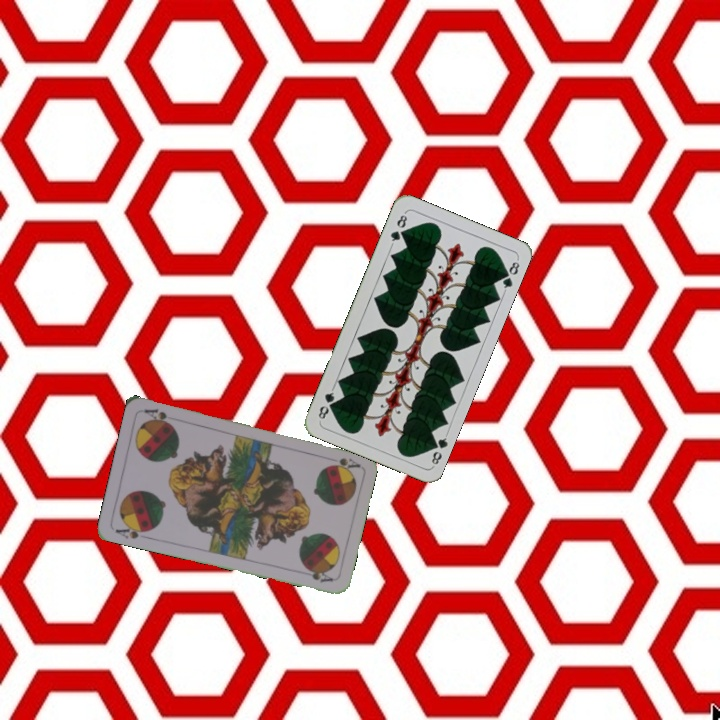G8: (386, 209, 410, 248), (426, 430, 450, 469)
SA: (111, 520, 153, 541), (322, 453, 362, 470)
